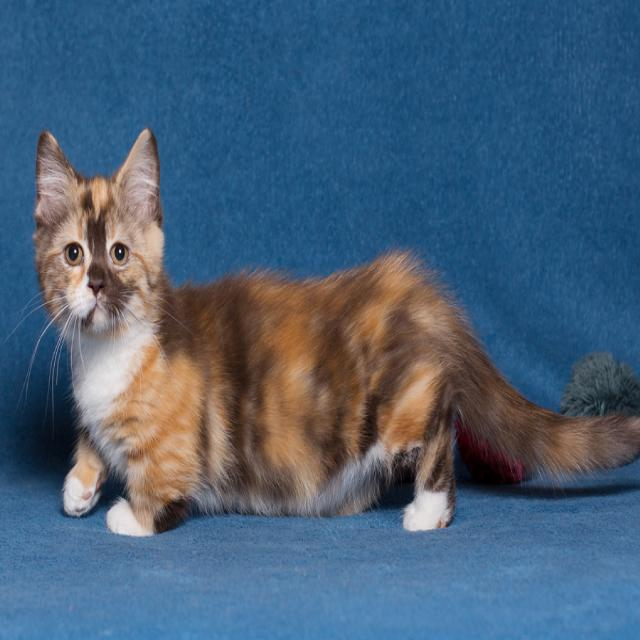Munchkin: (31, 123, 640, 542)
